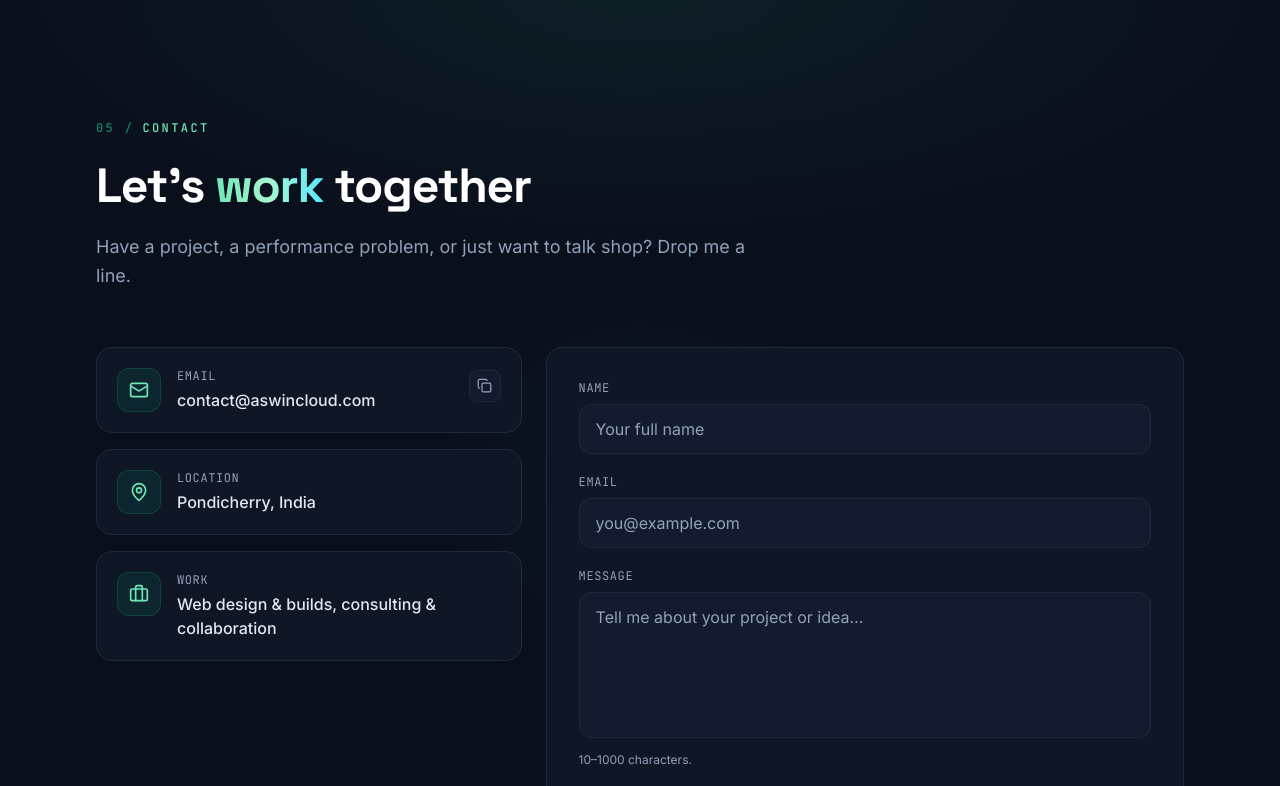
Scenario: contact form submission outcomes › when the network never completed (offline, DNS, CORS) › offers the direct email address as a fallback
Type "Jane Doe" into the field with id "contact-name". click: (865, 428)
box: [579,404,1151,454]
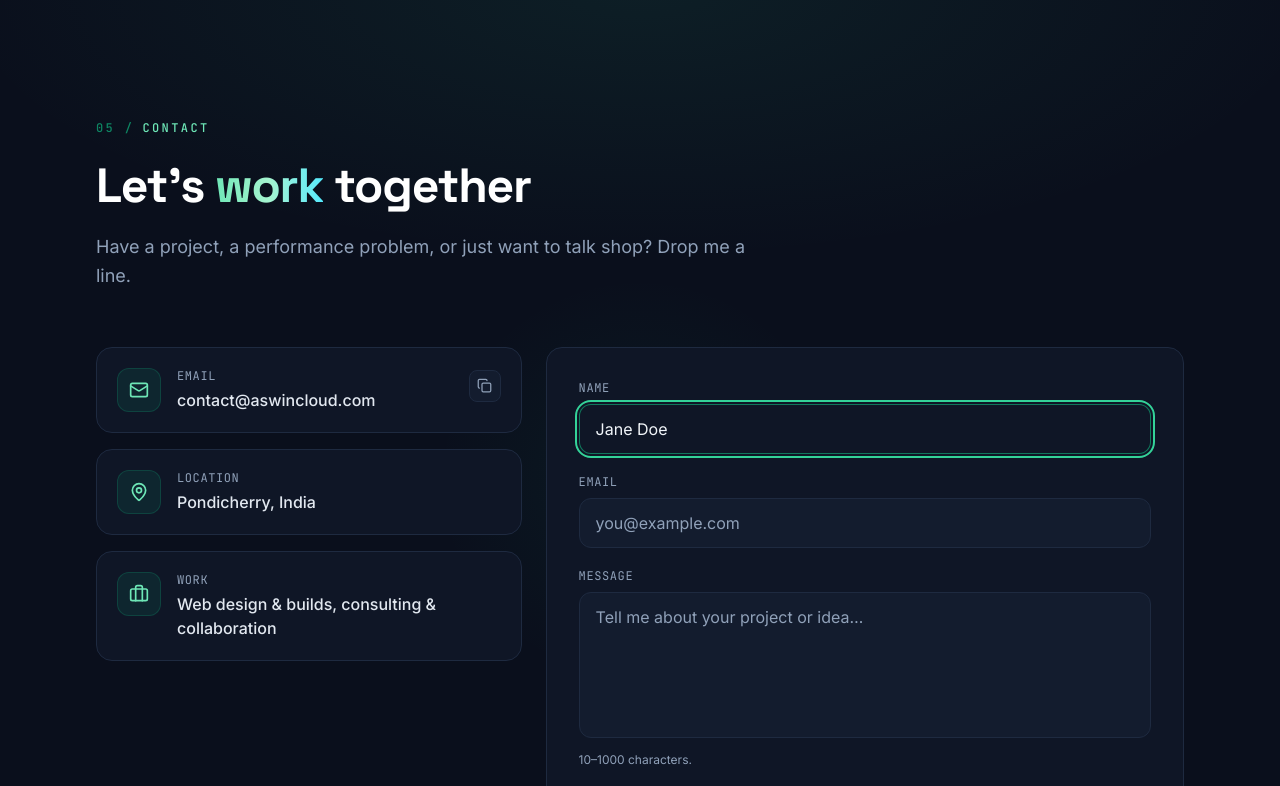
Type "jane@example.com" into the field with id "contact-email". click: (865, 522)
box: [579,498,1151,548]
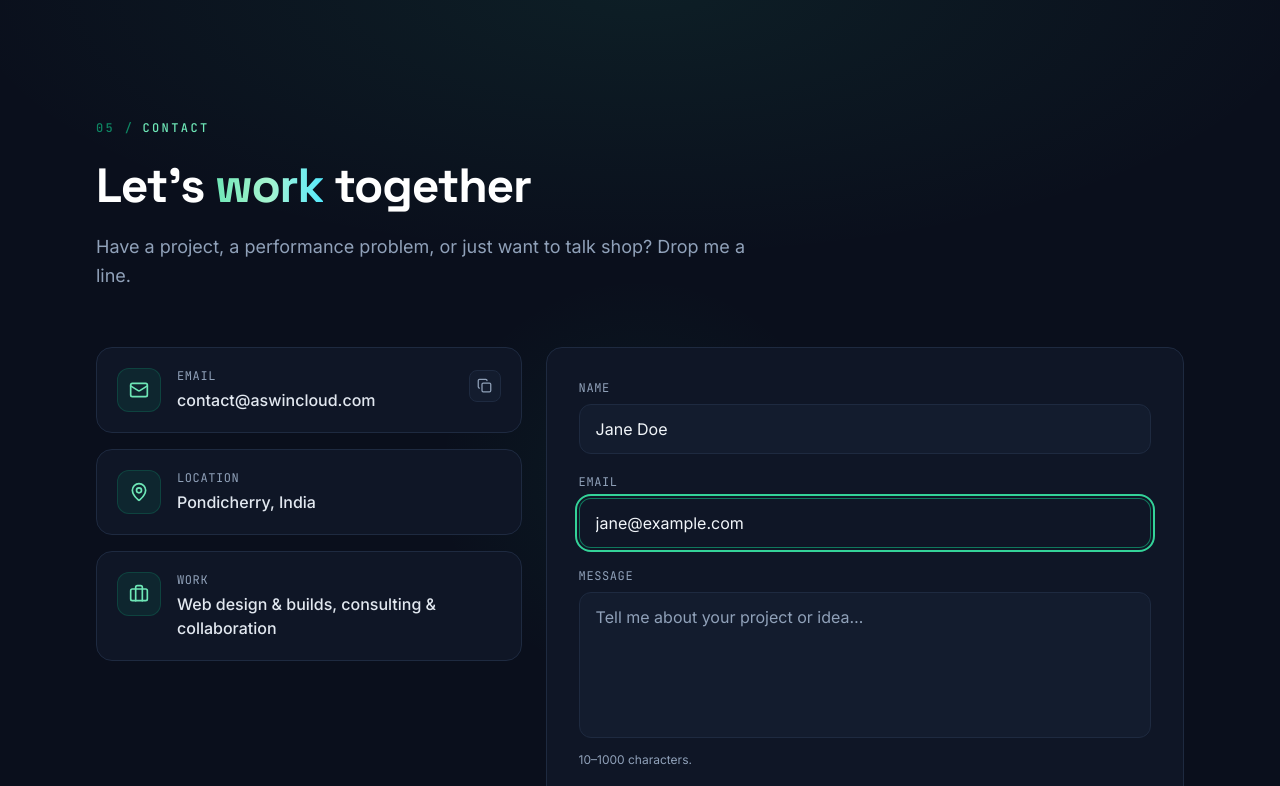
Type "Hello, I would like to discuss a project with you." into the text box with id "contact-message". click: (865, 664)
box: [579,592,1151,738]
(page scrolled)
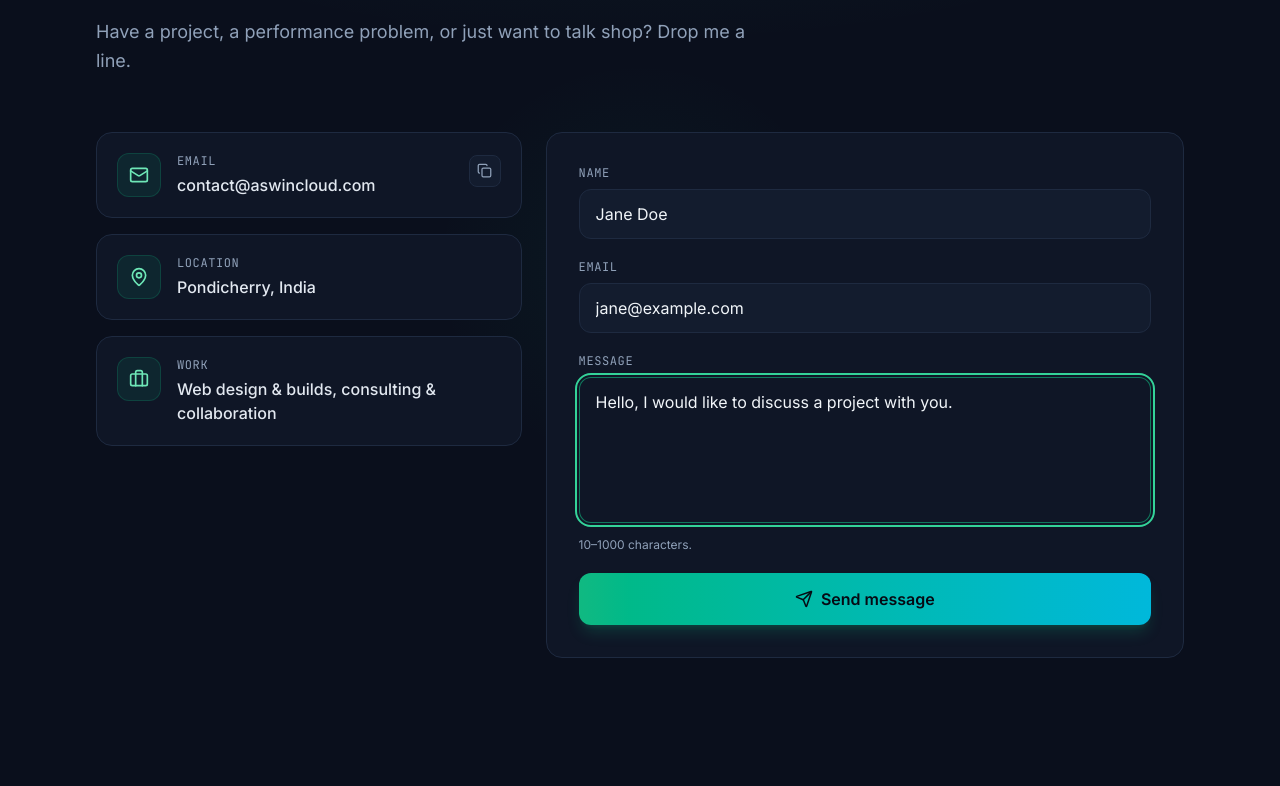
Click the button "Send message". click: click(865, 598)
box: [579,572,1151,624]
(page scrolled)
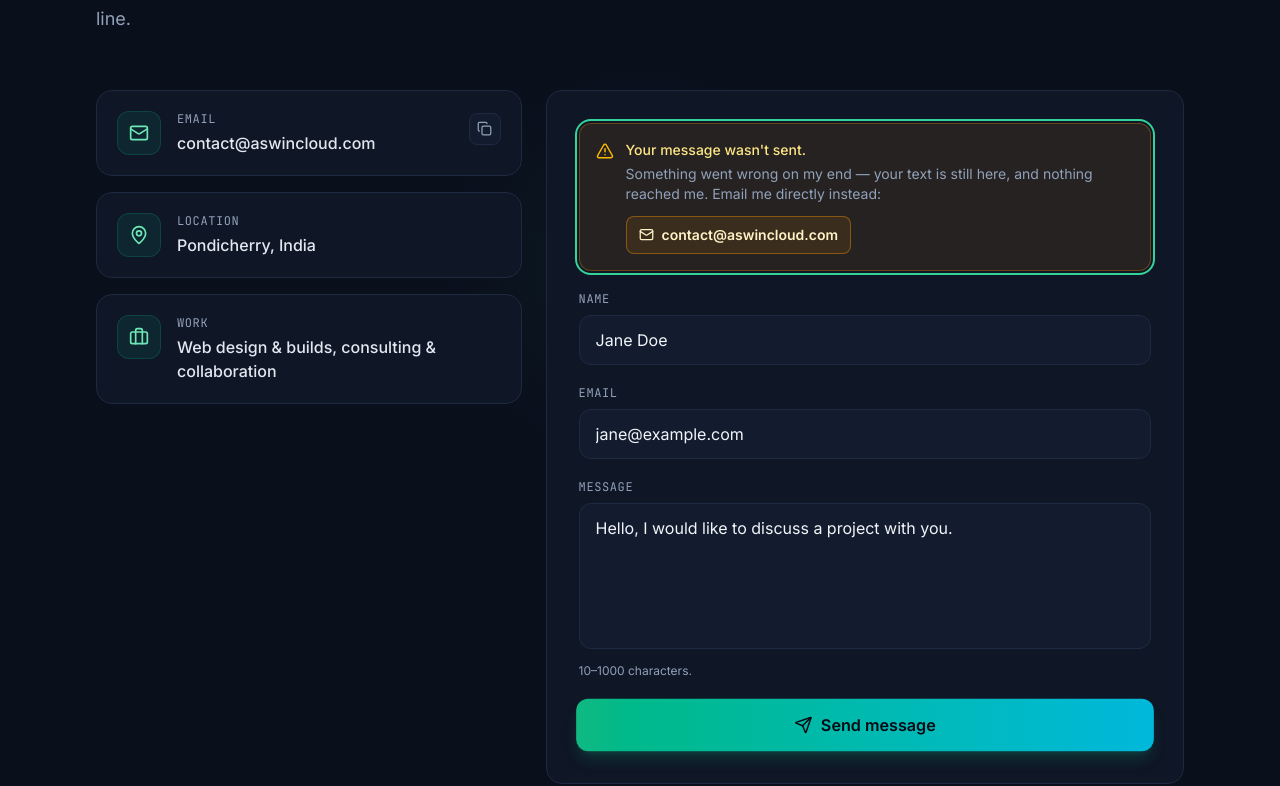
Expected: the text "Your message wasn't sent." is shown, [626,140,806,158]
